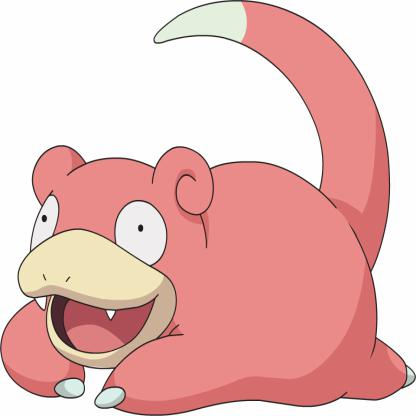Slowpoke: (15, 1, 416, 416)
